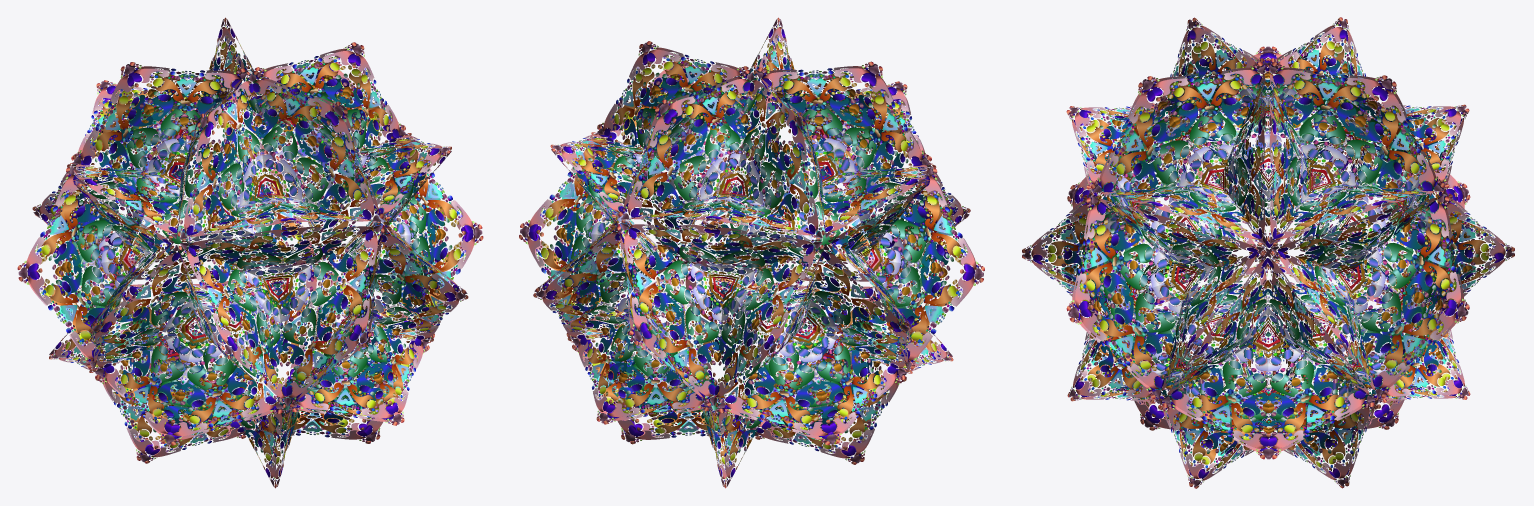
File: Mobius120a.obj
The picture shows the model from 3 angles, left to right: view 1: azimuth 30°, elevation 25°; view 2: azimuth 150°, elevation 25°; view 3: azimuth 270°, elevation 25°; orthographic projection. The views are drawn at different scales.
Size of the model in its own units: 3.62 by 3.25 by 3.8.
1 material, 1 textured.
